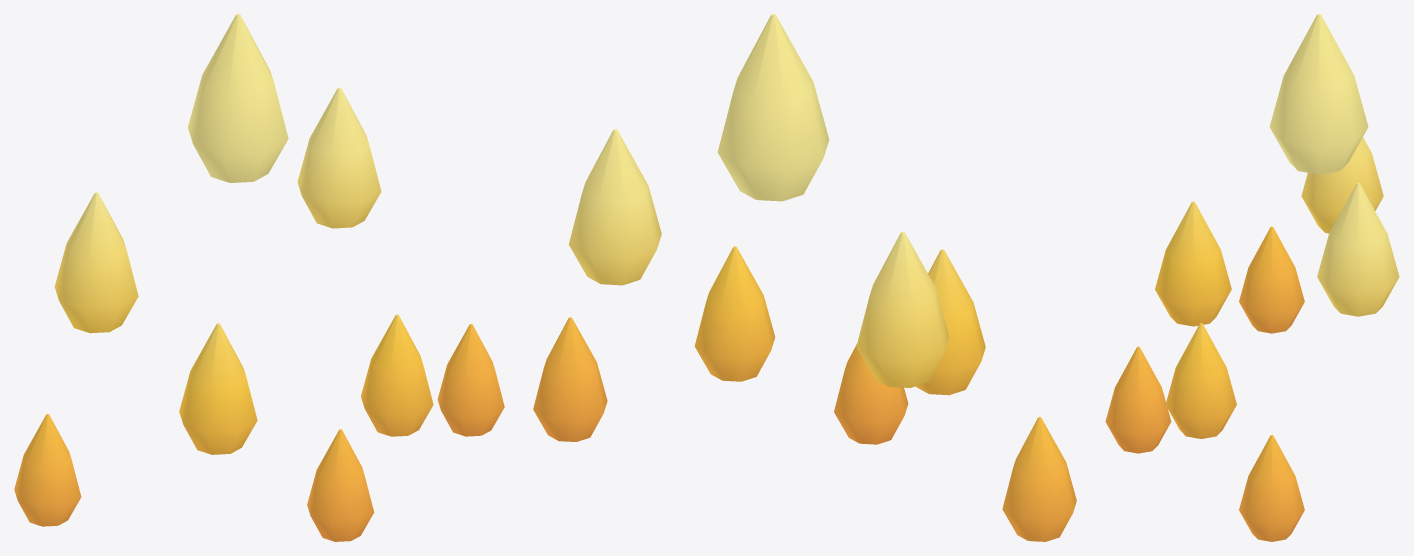
Rendered from candle_pile_flames.glb.
The picture shows the model from 3 angles, left to right: view 1: azimuth 30°, elevation 25°; view 2: azimuth 150°, elevation 25°; view 3: azimuth 270°, elevation 25°; orthographic projection. The views are drawn at different scales.
Parts seen in each view (by area): view 1: candle_pile_flames; view 2: candle_pile_flames; view 3: candle_pile_flames.
Part boxes in pixels (box(x1,y1,x2,y2)): candle_pile_flames: box(14, 14, 504, 541); candle_pile_flames: box(533, 14, 1076, 541); candle_pile_flames: box(1105, 14, 1399, 541).
Size of the model in its own units: 1.35 by 1.2 by 0.749.
Materials: 1 (1 with a texture image).
